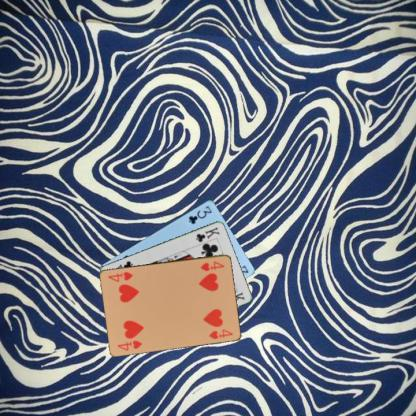3c: (186, 204, 213, 226)
4h: (115, 337, 143, 352), (198, 258, 226, 272)
Kc: (194, 224, 221, 243)
